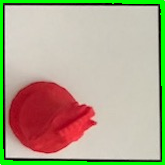Red Knight: (6, 74, 100, 156)
